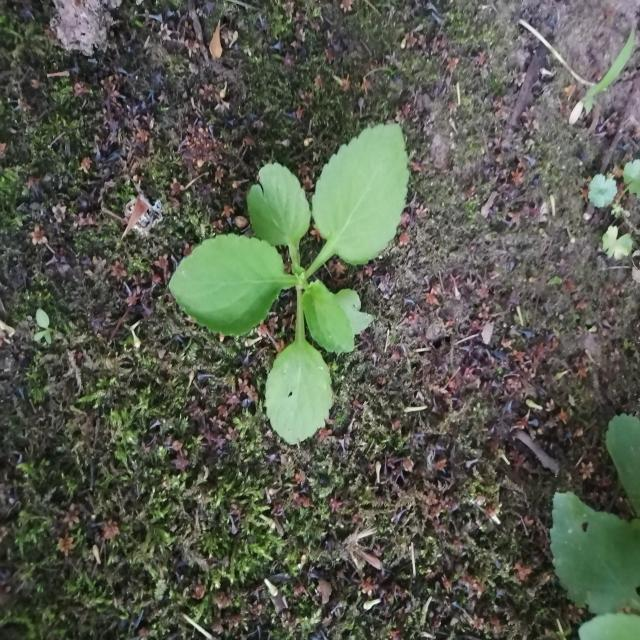Viola: (164, 111, 420, 412)
